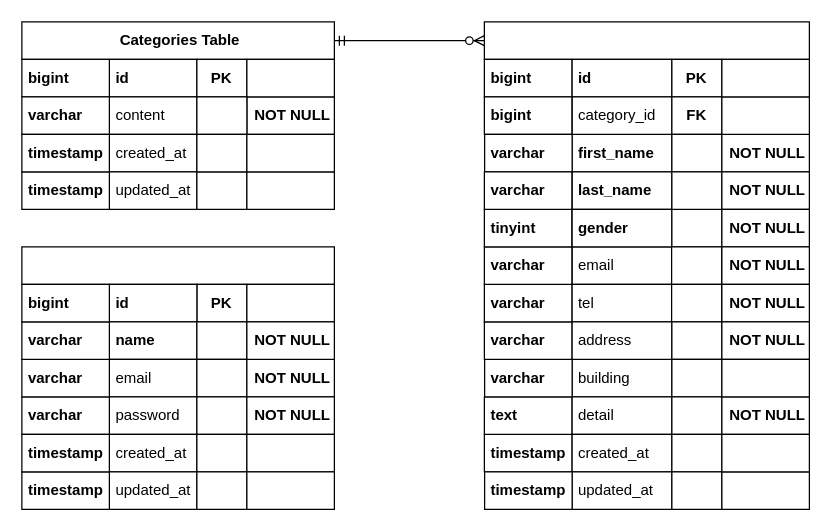
This 831x531 diagram has some shape labels left out. The shapes that lost their labels are listed below. From the top down, each one's centre as x and y in pixels, then its label:
At (646,40): "Contacts Table".
At (177,265): "Users Table".
